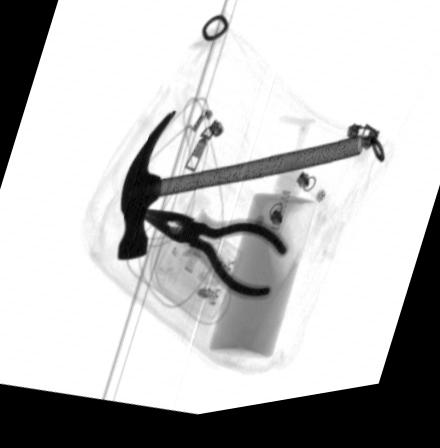Hammer: (117, 115, 363, 266)
Pliers: (136, 213, 290, 308)
